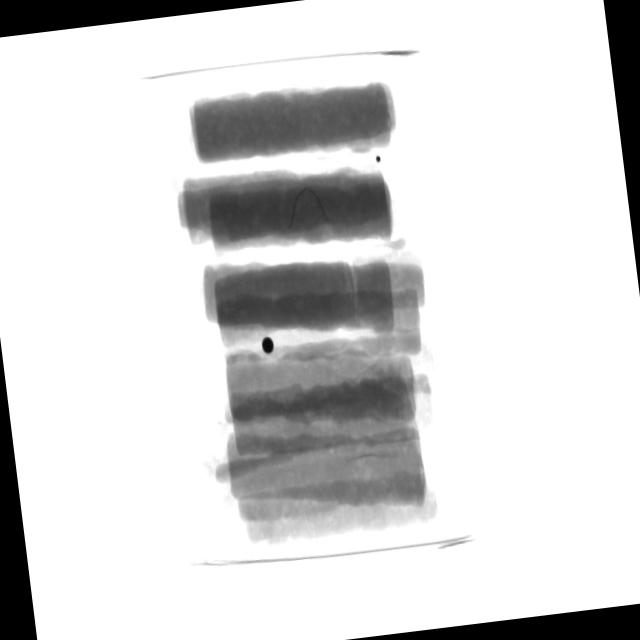ym: (261, 335, 275, 355), (376, 157, 382, 164)
